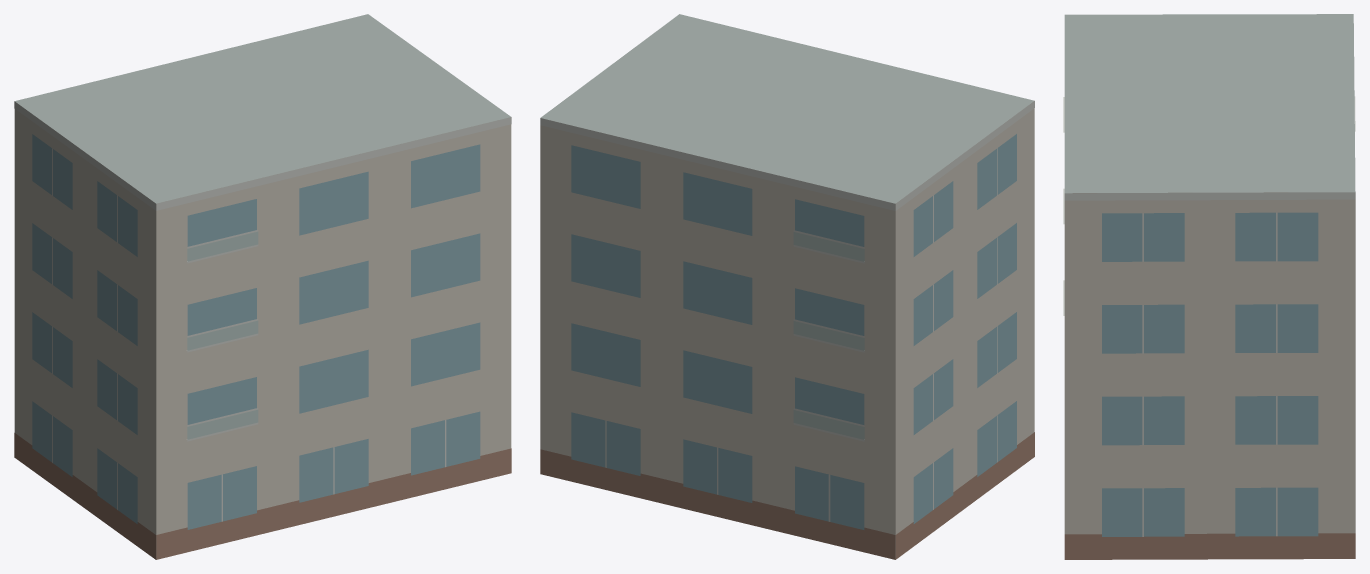
Rendered from survey-upis-32736608.glb.
3 renders of one model, left to right at view 1: azimuth 30°, elevation 25°; view 2: azimuth 150°, elevation 25°; view 3: azimuth 270°, elevation 25°, orthographic. The views are drawn at different scales.
Parts seen in each view (by area): view 1: survey-upis-32736608.tmp; view 2: survey-upis-32736608.tmp; view 3: survey-upis-32736608.tmp.
Part boxes in pixels (x1,y1,x2,y2): survey-upis-32736608.tmp: [14, 14, 511, 559]; survey-upis-32736608.tmp: [540, 14, 1034, 559]; survey-upis-32736608.tmp: [1063, 14, 1355, 559].
Bounding box in the file's own units: 12.48 × 11.9 × 8.6.
